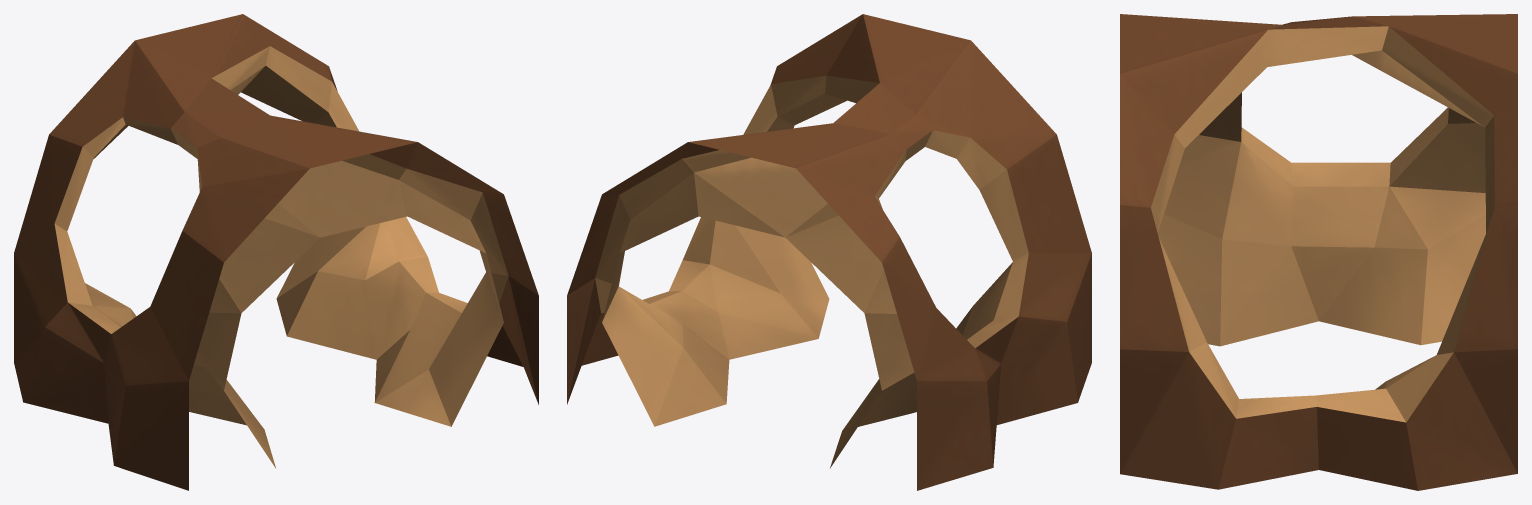
File: Tronc_Perce_Trou1.FBX
3 renders of one model, left to right at view 1: azimuth 30°, elevation 25°; view 2: azimuth 150°, elevation 25°; view 3: azimuth 270°, elevation 25°, orthographic. The views are drawn at different scales.
Visible parts, largest first — view 1: TroncPerce_Trou1; view 2: TroncPerce_Trou1; view 3: TroncPerce_Trou1.
Part boxes in pixels (x1=…): TroncPerce_Trou1: x1=14, y1=14, x2=538, y2=490; TroncPerce_Trou1: x1=567, y1=14, x2=1091, y2=490; TroncPerce_Trou1: x1=1120, y1=14, x2=1517, y2=490.
Size of the model in its own units: 2.36 by 1.6 by 1.73.
